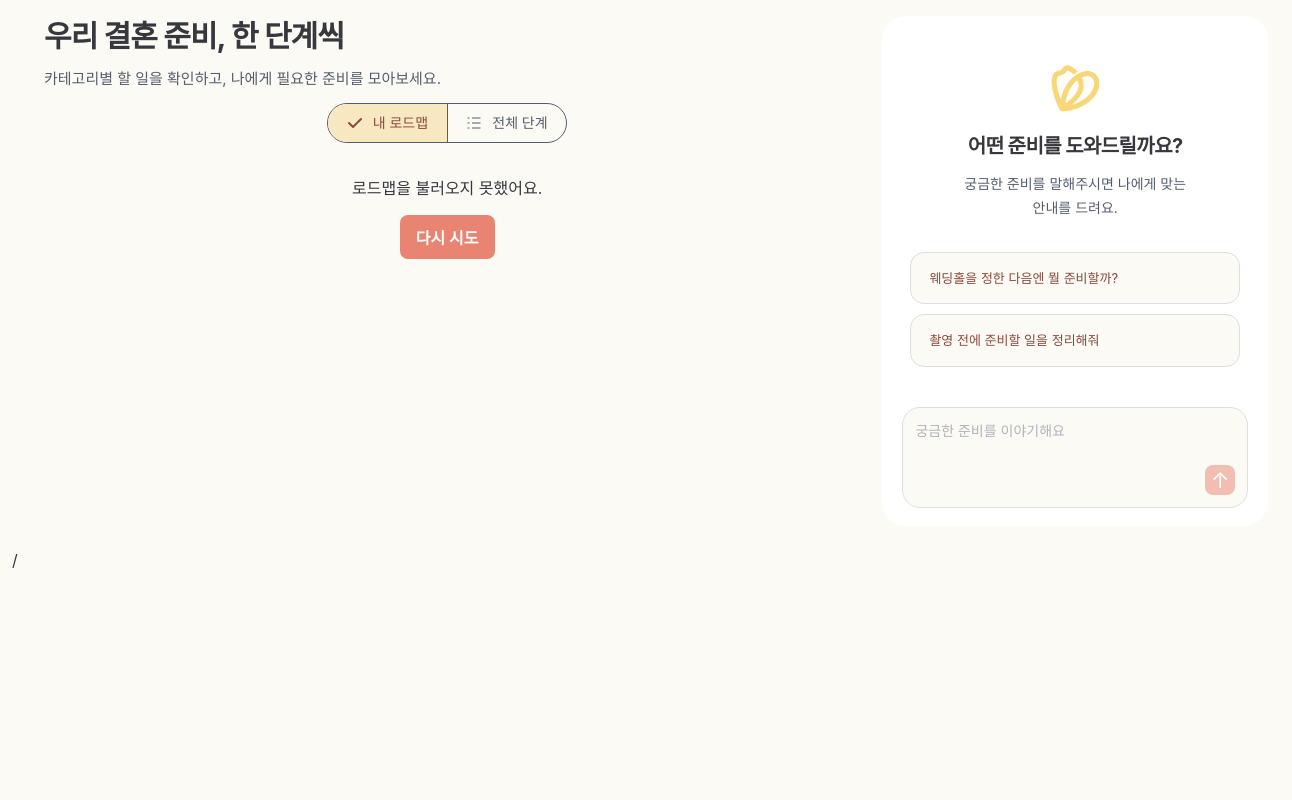
준비 로드맵 보기 전환 › 조회 오류를 빈 상태와 구분하고 재시도한다
expect the message "로드맵을 불러오지 못했어요. 다시 시도" is shown: met, box [352, 178, 542, 258]
Click the button "다시 시도".
click(447, 236)  # box [400, 214, 495, 258]
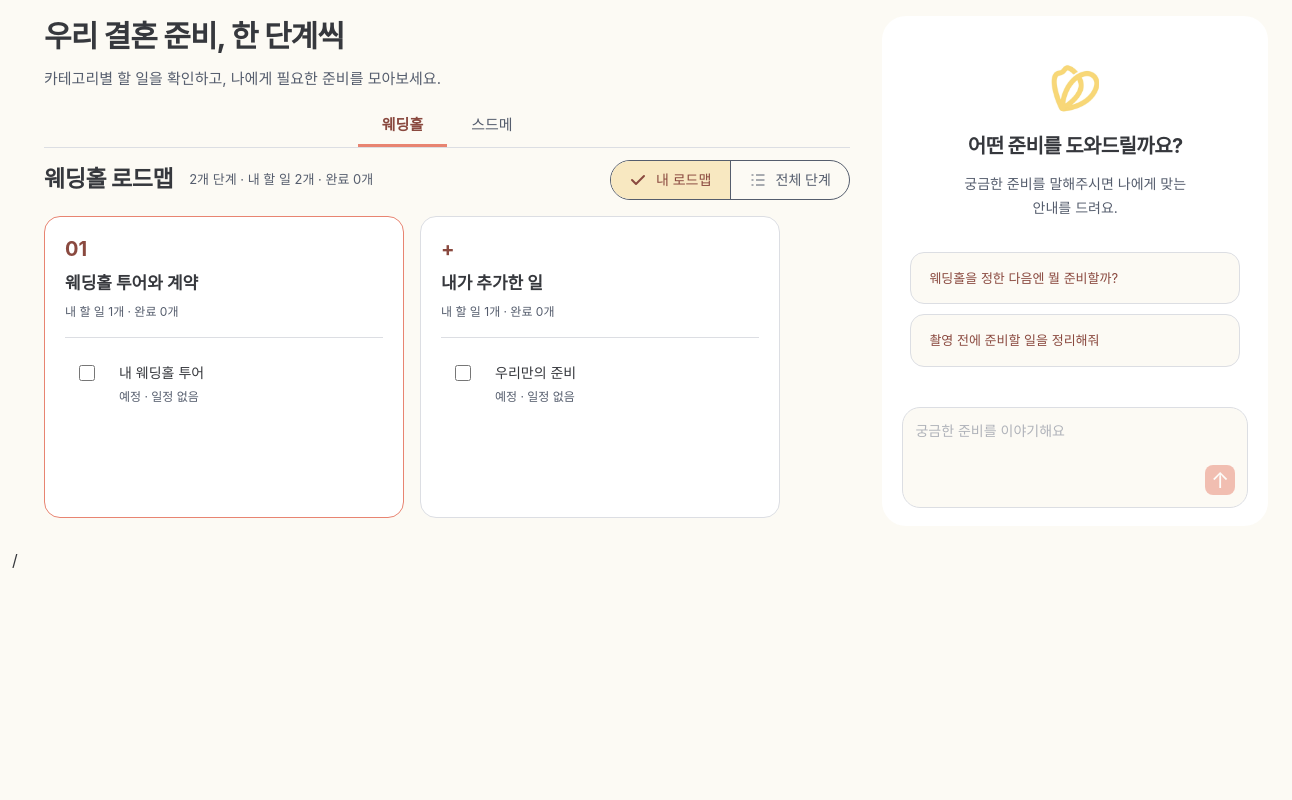
expect the text "내 웨딩홀 투어" is shown: met, box [119, 362, 204, 383]
